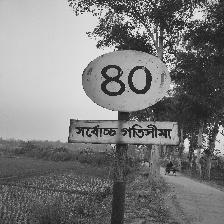Speed-limit: (74, 48, 175, 146)
